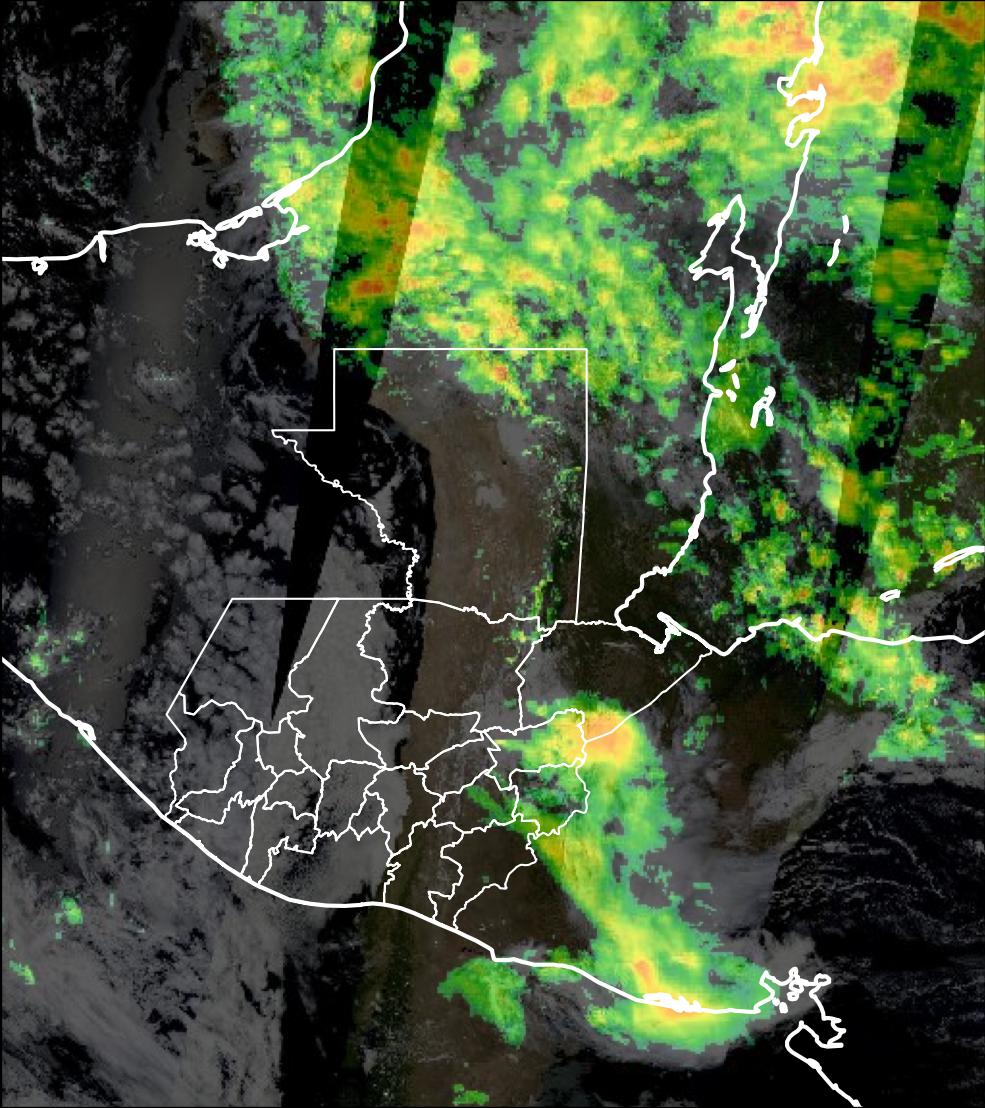precipitacion: (355, 196, 450, 302), (548, 709, 632, 773), (834, 46, 915, 111)
